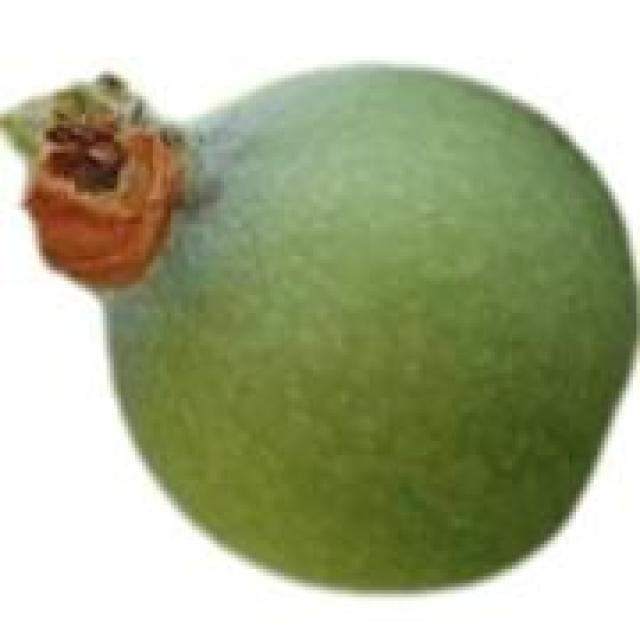Rotten Apple: (0, 46, 640, 604)
